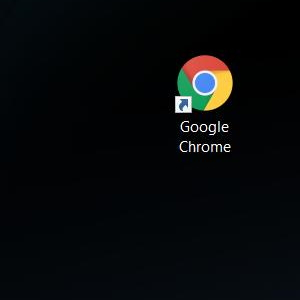chrome: (174, 54, 232, 113)
